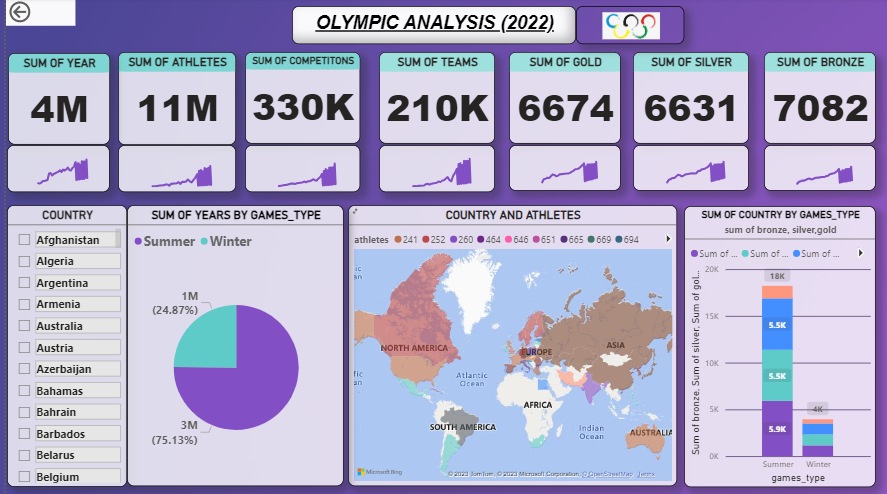

The dashboard page shown, as its layout file describes it:
{"tool":"powerbi","page":{"name":"Page 1","canvas":[1280,720],"ordinal":0},"visuals":[{"type":"filledMap","title":"COUNTRY AND ATHLETES ","fields":{"Category":["olympic_games.country"],"Series":["olympic_games.athletes"]},"box":[492.5,298.1,473.8,404.6],"z":0},{"type":"textbox","box":[411.8,11.5,409,54.7],"z":1000},{"type":"card","title":"SUM OF ATHLETES","fields":{"Values":["Sum(olympic_games.athletes)"]},"box":[161.3,77.8,169.9,133.9],"z":2000},{"type":"actionButton","box":[0,0,100,40],"z":3000},{"type":"slicer","title":"COUNTRY","fields":{"Values":["olympic_games.country"]},"box":[1.4,298.1,172.8,406.1],"z":4000},{"type":"pieChart","title":"SUM OF YEARS BY GAMES_TYPE","fields":{"Category":["olympic_games.games_type"],"Y":["Sum(olympic_games.year)"]},"box":[174.2,298.1,312.5,404.6],"z":5000},{"type":"card","title":"SUM OF COMPETITONS","fields":{"Values":["Sum(olympic_games.competitions)"]},"box":[344.2,77.8,165.6,132.5],"z":6000},{"type":"card","title":"SUM OF BRONZE","fields":{"Values":["Sum(olympic_games.bronze)"]},"box":[1091.5,77.8,161.3,132.5],"z":7000},{"type":"card","title":"SUM OF GOLD","fields":{"Values":["Sum(olympic_games.gold)"]},"box":[724.3,77.8,161.3,132.5],"z":8000},{"type":"card","title":"SUM OF SILVER","fields":{"Values":["Sum(olympic_games.silver)"]},"box":[902.9,77.8,167,132.5],"z":9000},{"type":"card","title":"SUM OF TEAMS","fields":{"Values":["Sum(olympic_games.teams)"]},"box":[537.1,77.8,167,132.5],"z":10000},{"type":"card","title":"SUM OF YEAR","fields":{"Values":["Sum(olympic_games.year)"]},"box":[2.9,79.2,146.9,132.5],"z":11000},{"type":"lineChart","fields":{"Y":["Sum(olympic_games.gold)"],"Category":["olympic_games.year"]},"box":[724.3,211.7,161.3,66.2],"z":12000},{"type":"lineChart","fields":{"Category":["olympic_games.year"],"Y":["Sum(olympic_games.silver)"]},"box":[902.9,211.7,167,66.2],"z":13000},{"type":"lineChart","fields":{"Category":["olympic_games.year"],"Y":["Sum(olympic_games.bronze)"]},"box":[1091.5,211.7,161.3,66.2],"z":14000},{"type":"lineChart","fields":{"Category":["olympic_games.year"],"Y":["CountNonNull(olympic_games.games_type)"]},"box":[1.4,211.7,148.3,67.7],"z":15000},{"type":"lineChart","fields":{"Category":["olympic_games.year"],"Y":["Sum(olympic_games.athletes)"]},"box":[161.3,211.7,169.9,67.7],"z":16000},{"type":"lineChart","fields":{"Category":["olympic_games.year"],"Y":["Sum(olympic_games.competitions)"]},"box":[344.2,211.7,165.6,67.7],"z":17000},{"type":"lineChart","fields":{"Category":["olympic_games.year"],"Y":["Sum(olympic_games.teams)"]},"box":[537.1,211.7,167,67.7],"z":18000},{"type":"columnChart","title":"SUM OF COUNTRY BY GAMES_TYPE","fields":{"Category":["olympic_games.games_type"],"Y":["Sum(olympic_games.bronze)","Sum(olympic_games.silver)","Sum(olympic_games.gold)","CountNonNull(olympic_games.country)"]},"box":[976.3,299.5,276.5,404.6],"z":19000},{"type":"image","box":[820.8,11.5,155.5,54.7],"z":20000}]}

Visuals, with their boxes in screenshot pixels (x1, y1, x2, y2), scaled from the page's 1280x720 canvas onto the 887x494 screenshot:
"COUNTRY AND ATHLETES " filledMap: (left=341, top=205, right=670, bottom=482)
textbox: (left=285, top=8, right=569, bottom=45)
"SUM OF ATHLETES" card: (left=112, top=53, right=230, bottom=145)
actionButton: (left=0, top=0, right=69, bottom=27)
"COUNTRY" slicer: (left=1, top=205, right=121, bottom=483)
"SUM OF YEARS BY GAMES_TYPE" pieChart: (left=121, top=205, right=337, bottom=482)
"SUM OF COMPETITONS" card: (left=239, top=53, right=353, bottom=144)
"SUM OF BRONZE" card: (left=756, top=53, right=868, bottom=144)
"SUM OF GOLD" card: (left=502, top=53, right=614, bottom=144)
"SUM OF SILVER" card: (left=626, top=53, right=741, bottom=144)
"SUM OF TEAMS" card: (left=372, top=53, right=488, bottom=144)
"SUM OF YEAR" card: (left=2, top=54, right=104, bottom=145)
lineChart - Sum(olympic_games.gold) x olympic_games.year: (left=502, top=145, right=614, bottom=191)
lineChart - olympic_games.year x Sum(olympic_games.silver): (left=626, top=145, right=741, bottom=191)
lineChart - olympic_games.year x Sum(olympic_games.bronze): (left=756, top=145, right=868, bottom=191)
lineChart - olympic_games.year x CountNonNull(olympic_games.games_type): (left=1, top=145, right=104, bottom=192)
lineChart - olympic_games.year x Sum(olympic_games.athletes): (left=112, top=145, right=230, bottom=192)
lineChart - olympic_games.year x Sum(olympic_games.competitions): (left=239, top=145, right=353, bottom=192)
lineChart - olympic_games.year x Sum(olympic_games.teams): (left=372, top=145, right=488, bottom=192)
"SUM OF COUNTRY BY GAMES_TYPE" columnChart: (left=677, top=205, right=868, bottom=483)
image: (left=569, top=8, right=677, bottom=45)
